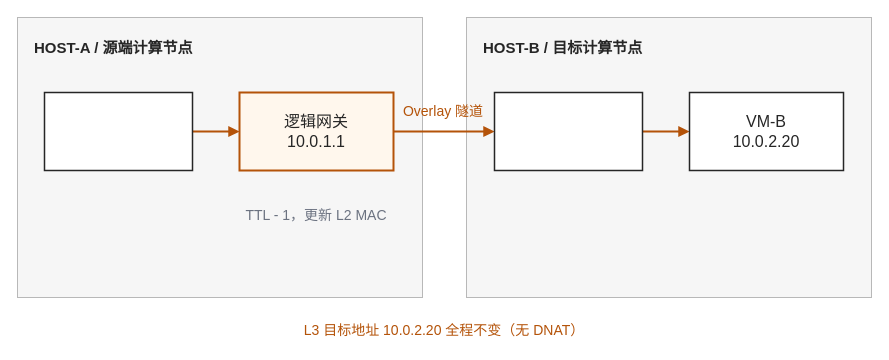
Some shapes in this 889 by 360 pixel diagram are drawn without their labels. The shapes that lost their labels are listed below. From the top down, each one's box as (x1, y1, x2, y2) in pixels, then its label:
(43, 91, 193, 171): VM-A 10.0.1.10
(493, 91, 643, 171): 远端 VTEP 解封装
